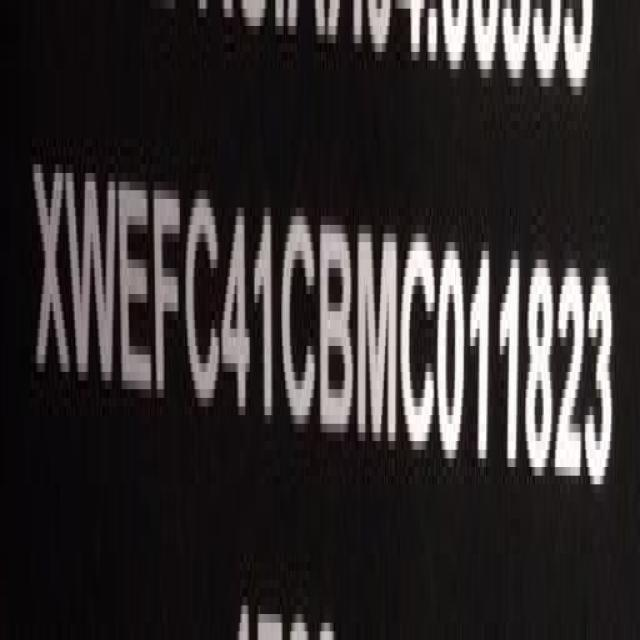0: (438, 236, 466, 468)
1: (499, 240, 523, 480), (256, 197, 276, 433), (469, 241, 489, 476)
2: (557, 258, 586, 492)
3: (590, 262, 618, 494)
4: (222, 205, 252, 429)
8: (526, 249, 554, 481)
B: (319, 216, 355, 447)
C: (283, 205, 320, 438), (185, 177, 220, 421), (400, 229, 437, 459)
E: (118, 173, 154, 408)
F: (152, 186, 183, 416)
M: (355, 218, 400, 453)
W: (71, 151, 119, 401)
X: (34, 151, 70, 396)
